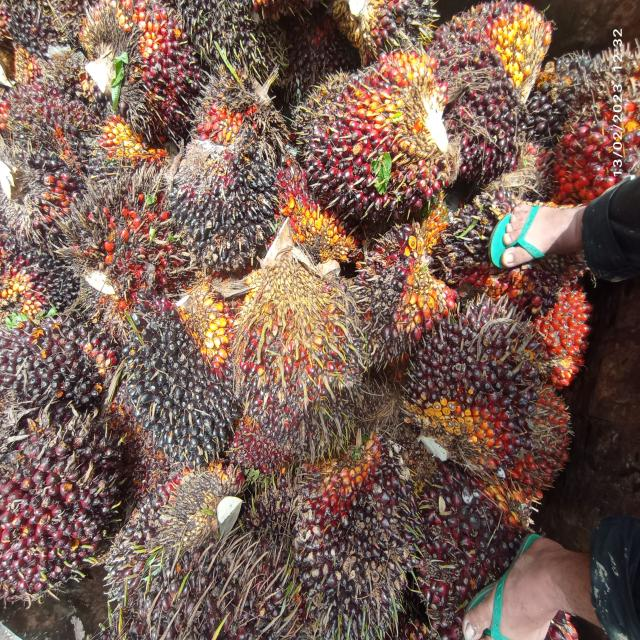fraksi 00: (283, 443, 431, 633), (150, 111, 309, 282), (104, 292, 255, 469), (342, 206, 472, 384), (134, 536, 297, 640), (2, 305, 120, 424), (1, 223, 93, 338), (518, 26, 598, 150)
fraksi 1: (406, 286, 548, 494), (288, 48, 466, 212), (231, 256, 363, 471), (422, 0, 556, 193), (0, 417, 123, 608), (406, 476, 544, 625), (2, 51, 105, 176)
fraksi 3: (74, 0, 206, 133), (557, 19, 640, 220), (186, 68, 291, 156)
fraksi 4: (57, 161, 194, 318), (514, 381, 596, 519), (529, 266, 602, 404)
